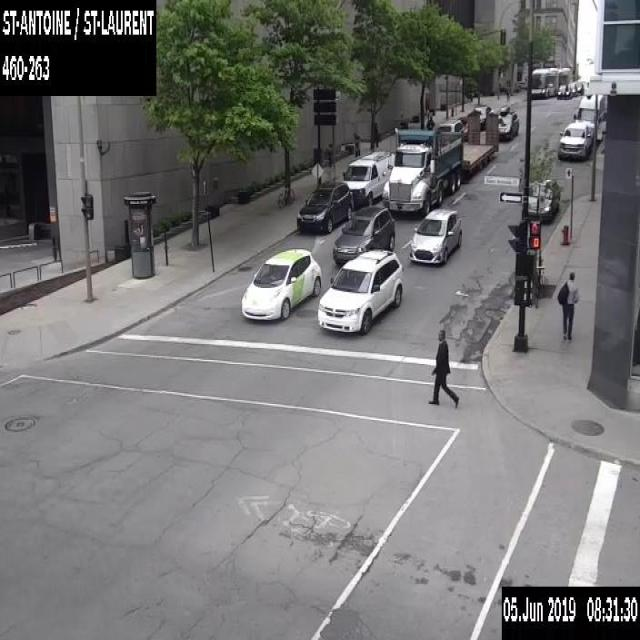bus: (529, 66, 570, 98)
pedestrian: (427, 329, 459, 408), (557, 271, 580, 340), (324, 140, 332, 180), (373, 120, 379, 145), (425, 115, 434, 128)
vehicle: (382, 112, 499, 214), (317, 248, 403, 332), (240, 248, 321, 318), (332, 205, 394, 266), (342, 148, 395, 206), (408, 207, 461, 264), (295, 180, 352, 232), (574, 93, 606, 138), (527, 178, 560, 221), (556, 121, 592, 158), (498, 104, 518, 139), (470, 104, 493, 130), (438, 117, 467, 135), (556, 83, 570, 95), (567, 82, 577, 94), (574, 82, 584, 94)
